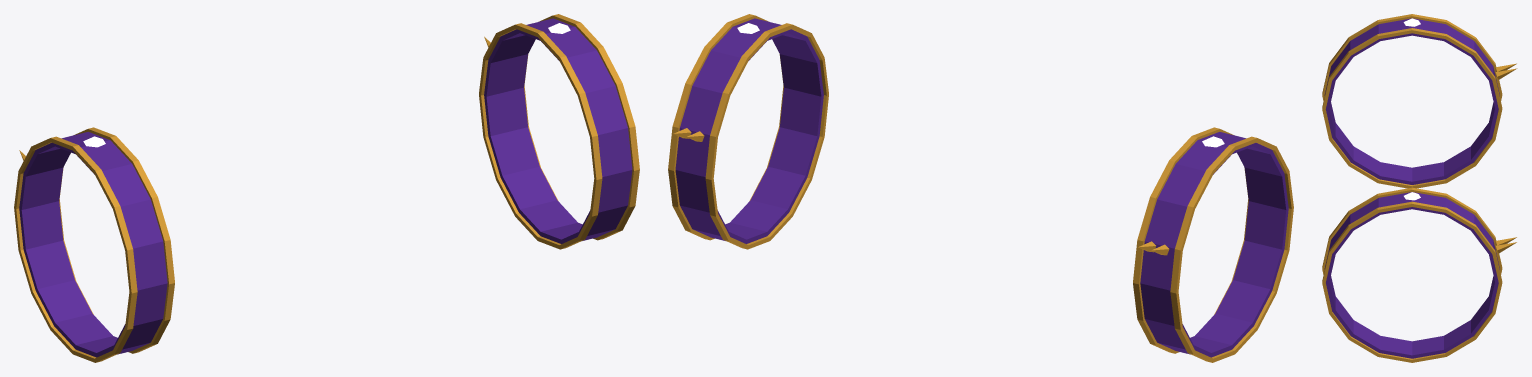
File: armor_lord_arms_epic_orc.glb
3 renders of one model, left to right at view 1: azimuth 30°, elevation 25°; view 2: azimuth 150°, elevation 25°; view 3: azimuth 270°, elevation 25°, orthographic. The views are drawn at different scales.
Parts seen in each view (by area): view 1: armor_lord_arms_epic_orc__lowerarm_l, armor_lord_arms_epic_orc__lowerarm_r; view 2: armor_lord_arms_epic_orc__lowerarm_l, armor_lord_arms_epic_orc__lowerarm_r; view 3: armor_lord_arms_epic_orc__lowerarm_l, armor_lord_arms_epic_orc__lowerarm_r.
Part boxes in pixels (x1,y1,x2,y2): armor_lord_arms_epic_orc__lowerarm_l: (479, 14, 639, 249); armor_lord_arms_epic_orc__lowerarm_r: (14, 127, 174, 362); armor_lord_arms_epic_orc__lowerarm_l: (668, 14, 828, 249); armor_lord_arms_epic_orc__lowerarm_r: (1133, 127, 1293, 362); armor_lord_arms_epic_orc__lowerarm_l: (1322, 187, 1516, 362); armor_lord_arms_epic_orc__lowerarm_r: (1322, 14, 1517, 188).
Bounding box in the file's own units: 119 × 47.51 × 51.69.
